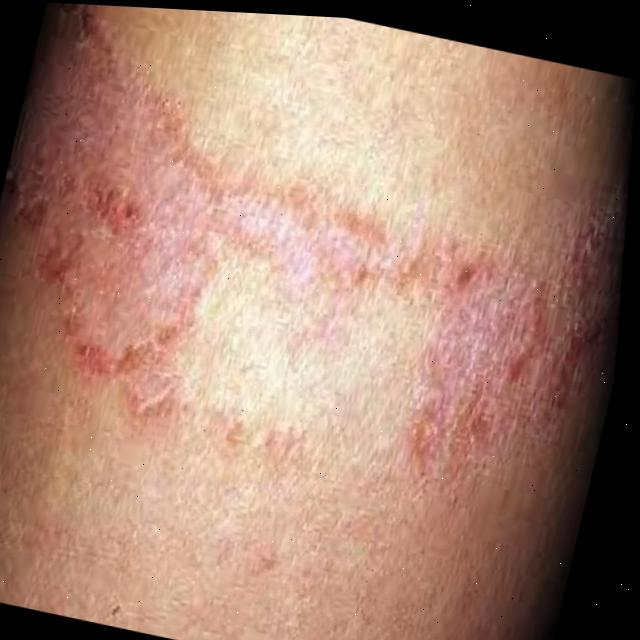Eczema: (0, 67, 635, 508)
